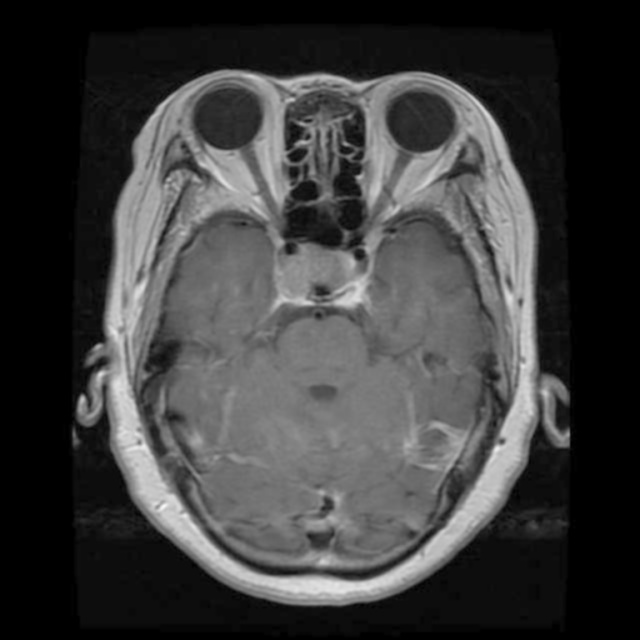no tumor: (259, 244, 375, 314)
